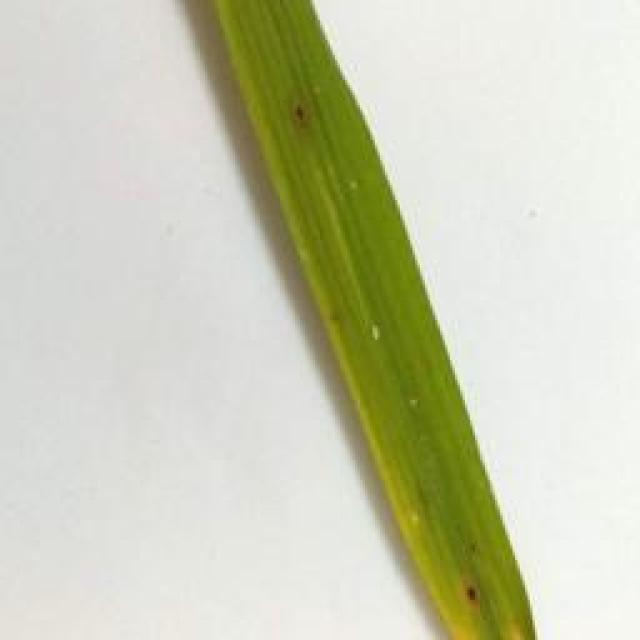Brown_Spot: (279, 98, 313, 126), (468, 574, 489, 609)
